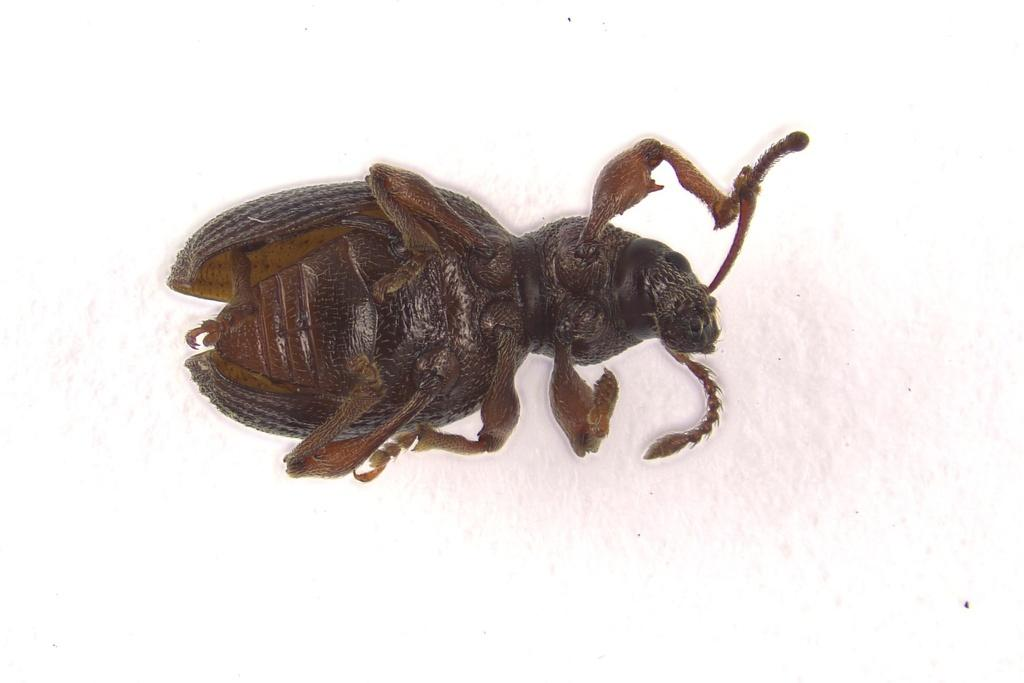weevils: (105, 77, 873, 538)
